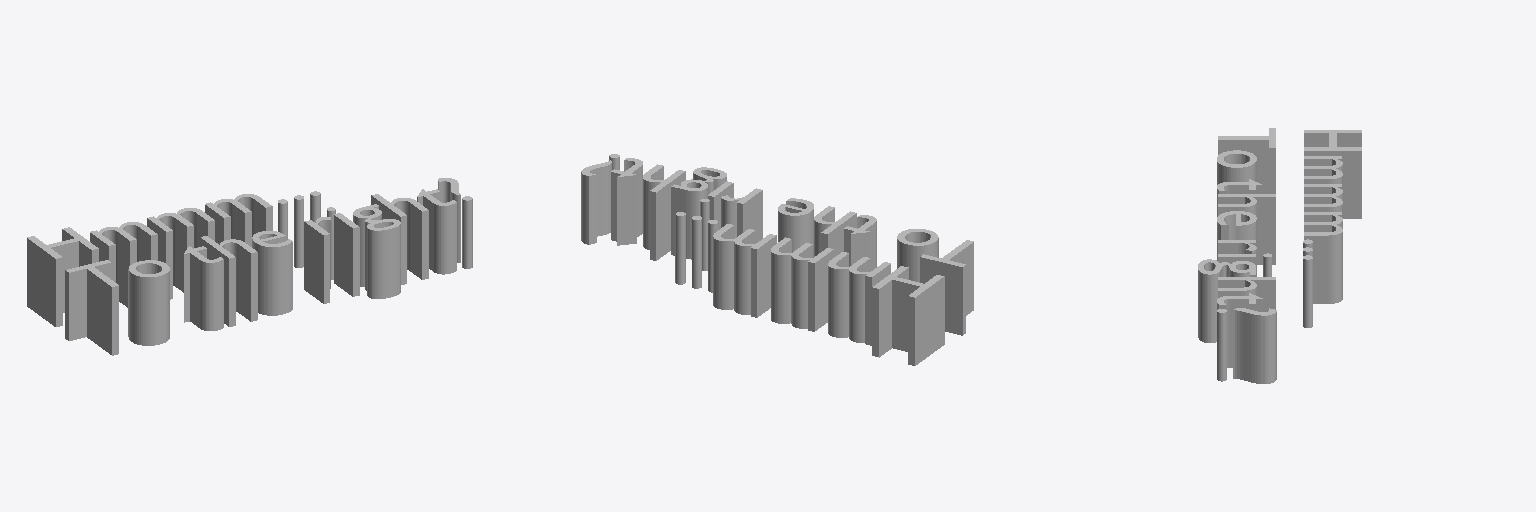
File: Hint1.obj
3 views of the same model, side by side, from view 1: azimuth 30°, elevation 25°; view 2: azimuth 150°, elevation 25°; view 3: azimuth 270°, elevation 25° (orthographic).
Visible parts, largest first — view 1: Text; view 2: Text; view 3: Text.
Boxes of the visible parts, x1=… form: Text: x1=27, y1=178, x2=472, y2=355; Text: x1=581, y1=154, x2=973, y2=365; Text: x1=1198, y1=128, x2=1361, y2=383.
Bounding box in the file's own units: 5.17 × 0.88 × 1.91.